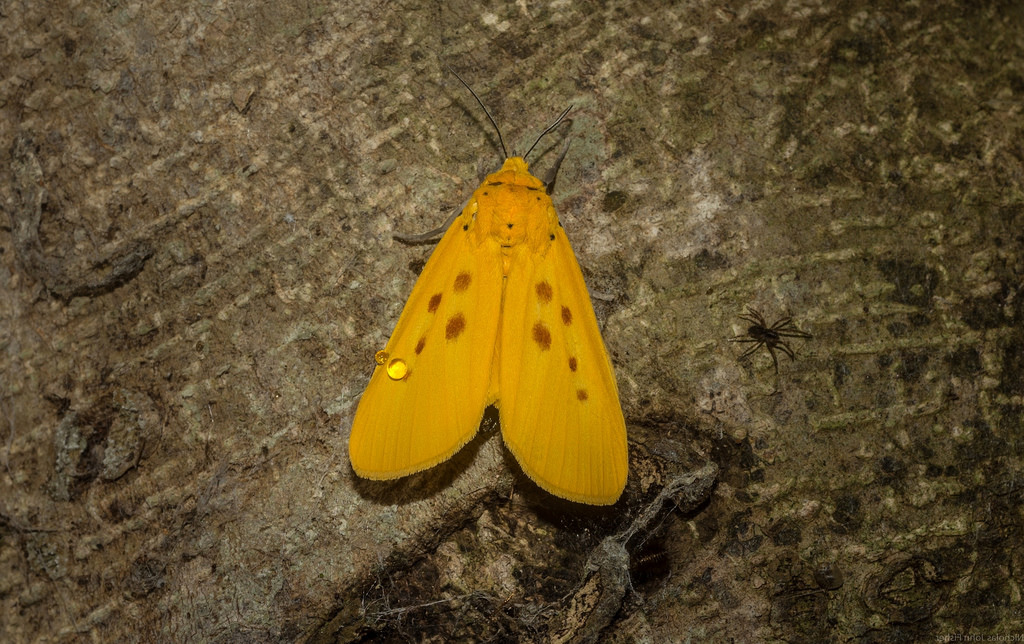Agape chloropyga: (343, 72, 630, 509)
moth: (347, 67, 634, 504)
